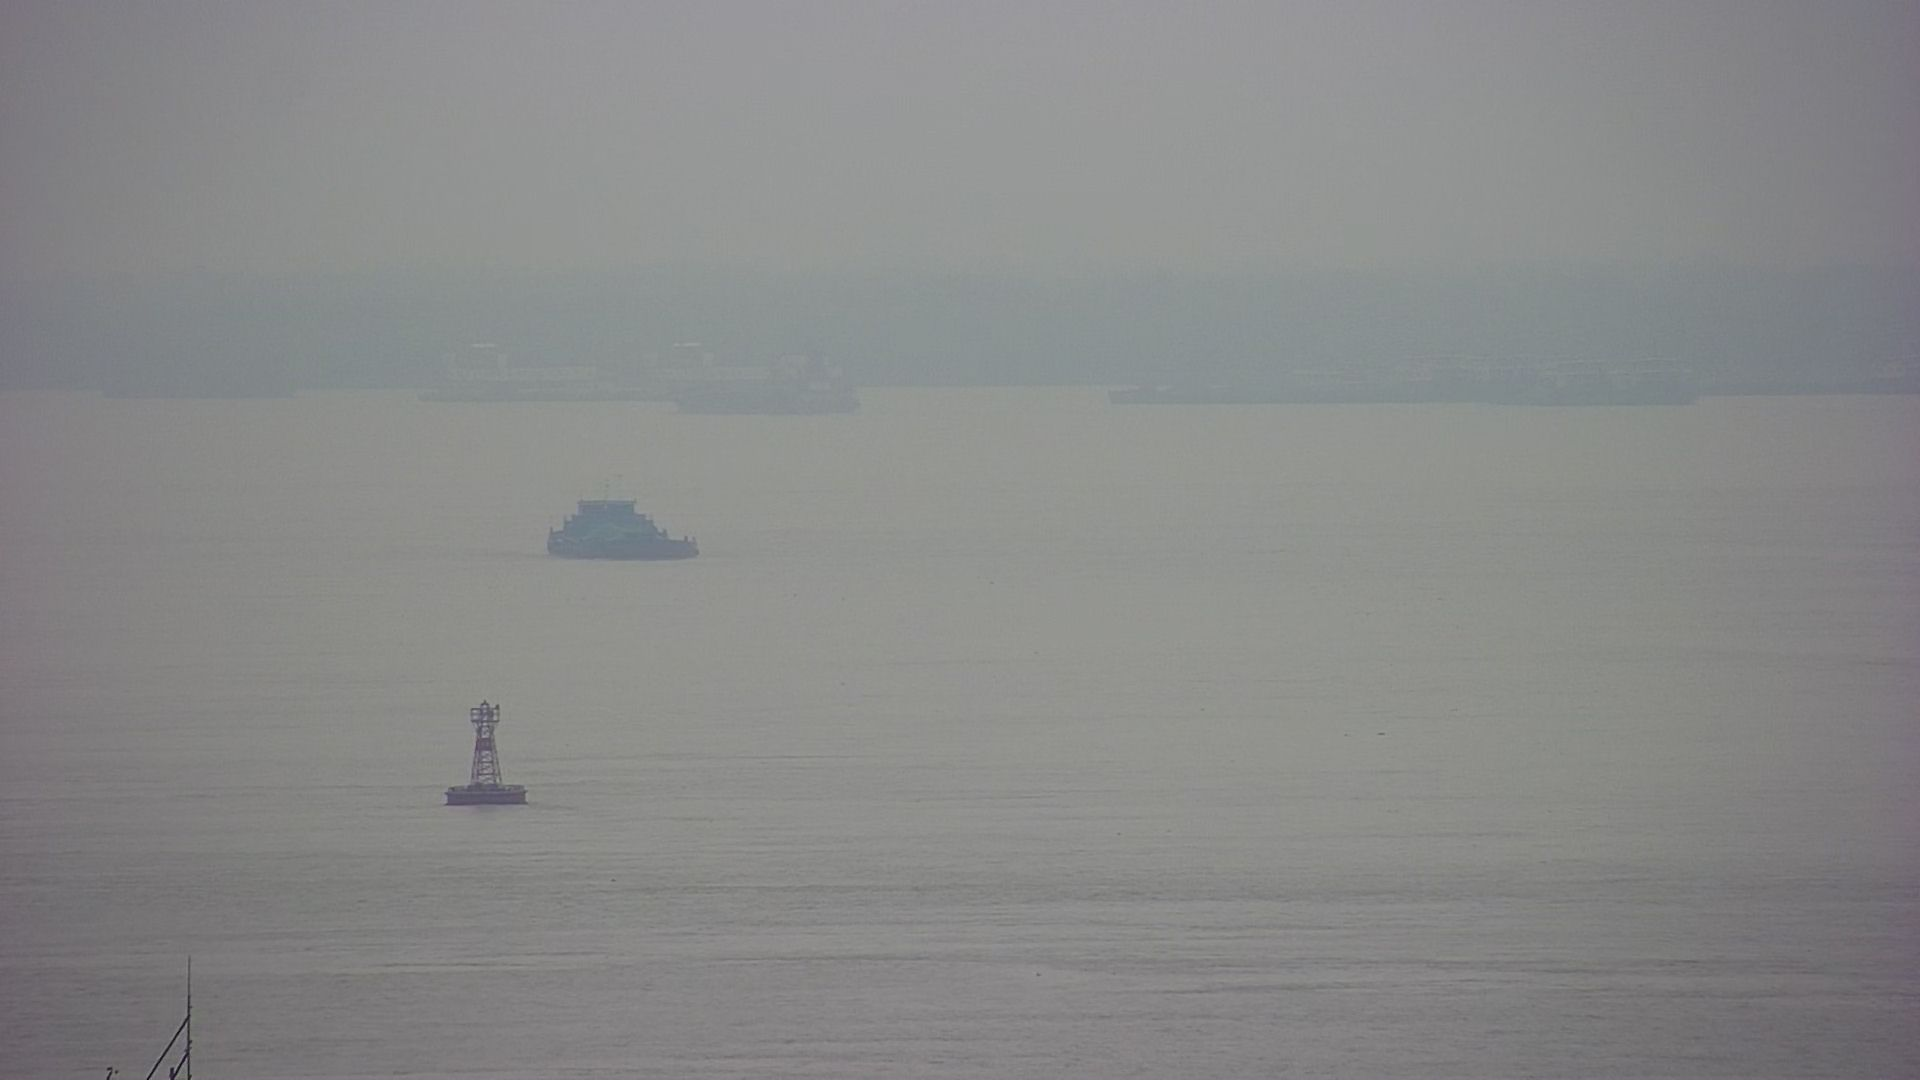mast: (105, 972, 196, 1080)
platform: (448, 702, 524, 804)
ship: (545, 498, 698, 559)
